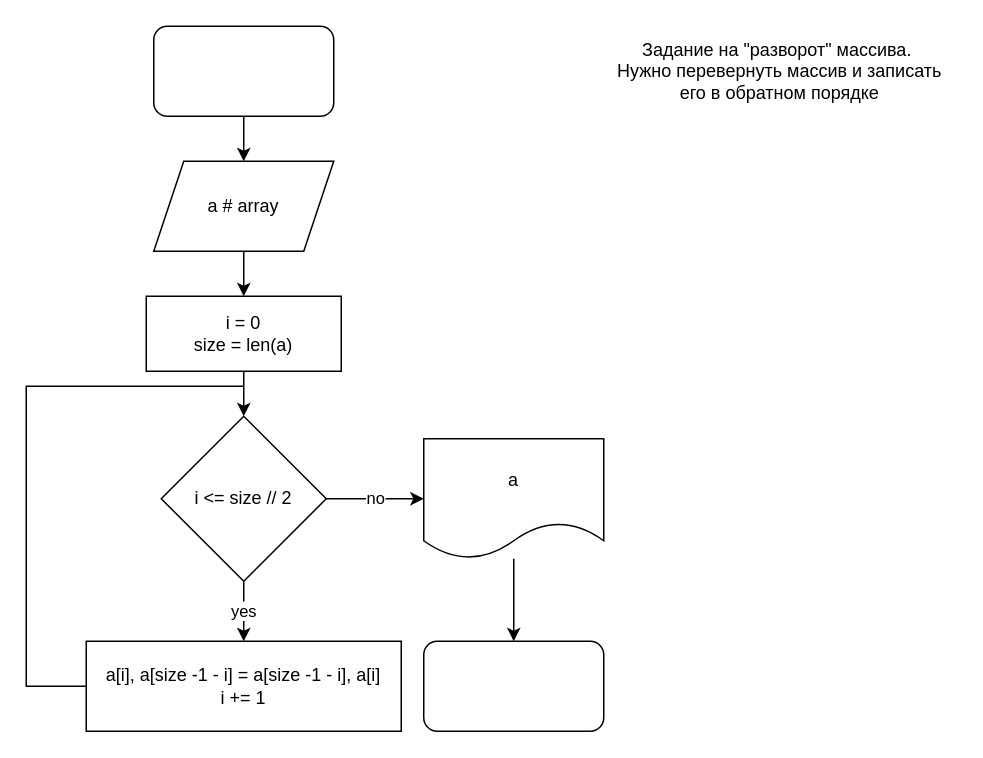
Some shapes in this 983 by 758 pixel diagram are drawn without their labels. Each missing label, with the box of its shape:
Конец: (422, 640, 604, 731)
Начало: (152, 25, 334, 116)
